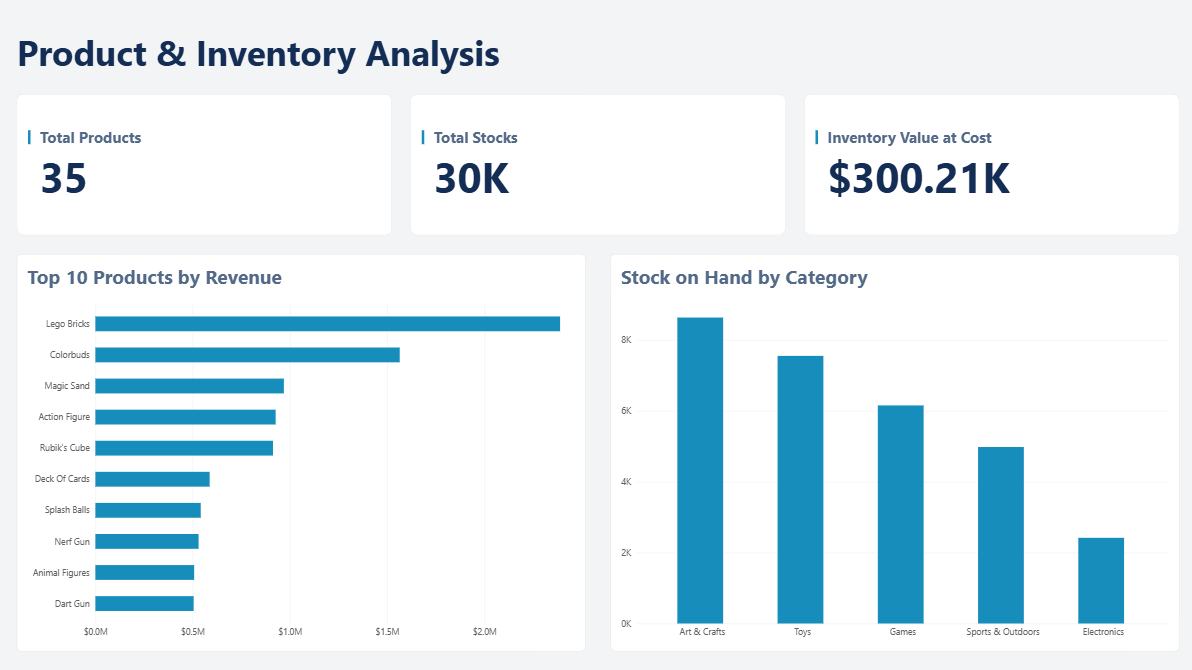

Layout of this report page (visuals, bound fields, positions):
{"tool":"powerbi","page":{"name":"Product & Inventory Analysis","canvas":[1920,1080],"ordinal":1},"visuals":[{"type":"cardVisual","fields":{"Data":["maven_toys products.Total Products"]},"box":[30,152,600,226],"z":0},{"type":"cardVisual","fields":{"Data":["maven_toys inventory.Inventory Value at Cost"]},"box":[1290,152,600,226],"z":1000},{"type":"cardVisual","fields":{"Data":["maven_toys inventory.Total Stocks"]},"box":[660,152,600,226],"z":2000},{"type":"clusteredBarChart","title":"Top 10 Products by Revenue","fields":{"Category":["maven_toys products.Product_Name"],"Y":["maven_toys sales.Total Revenue"]},"box":[30,408,910,636],"z":3000},{"type":"clusteredColumnChart","title":"Stock on Hand by Category","fields":{"Category":["maven_toys products.Product_Category"],"Y":["maven_toys inventory.Total Stocks"]},"box":[980.2,408.1,910,636],"z":4000},{"type":"textbox","box":[29.7,45.3,1861.1,106.4],"z":5000},{"type":"shape","box":[30,209.5,40,22.3],"z":5001},{"type":"shape","box":[660,209.2,40,22.3],"z":5002},{"type":"shape","box":[1290,210,40,22.3],"z":5003}]}

Visuals, with their boxes in screenshot pixels (x1, y1, x2, y2), scaled from the page's 1920x1080 canvas onto the 1192x670 screenshot:
cardVisual - maven_toys products.Total Products: x1=19, y1=94, x2=391, y2=234
cardVisual - maven_toys inventory.Inventory Value at Cost: x1=801, y1=94, x2=1173, y2=234
cardVisual - maven_toys inventory.Total Stocks: x1=410, y1=94, x2=782, y2=234
"Top 10 Products by Revenue" clusteredBarChart: x1=19, y1=253, x2=584, y2=648
"Stock on Hand by Category" clusteredColumnChart: x1=609, y1=253, x2=1173, y2=648
textbox: x1=18, y1=28, x2=1174, y2=94
shape: x1=19, y1=130, x2=43, y2=144
shape: x1=410, y1=130, x2=435, y2=144
shape: x1=801, y1=130, x2=826, y2=144
